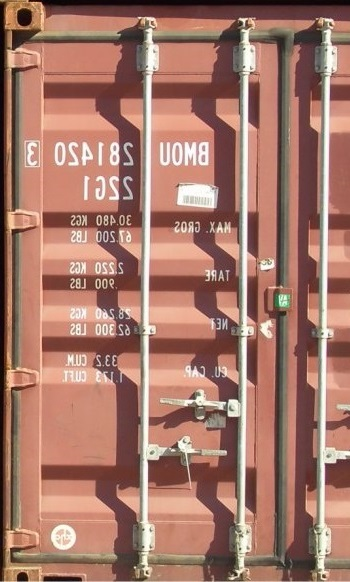container_door: (6, 1, 336, 579)
